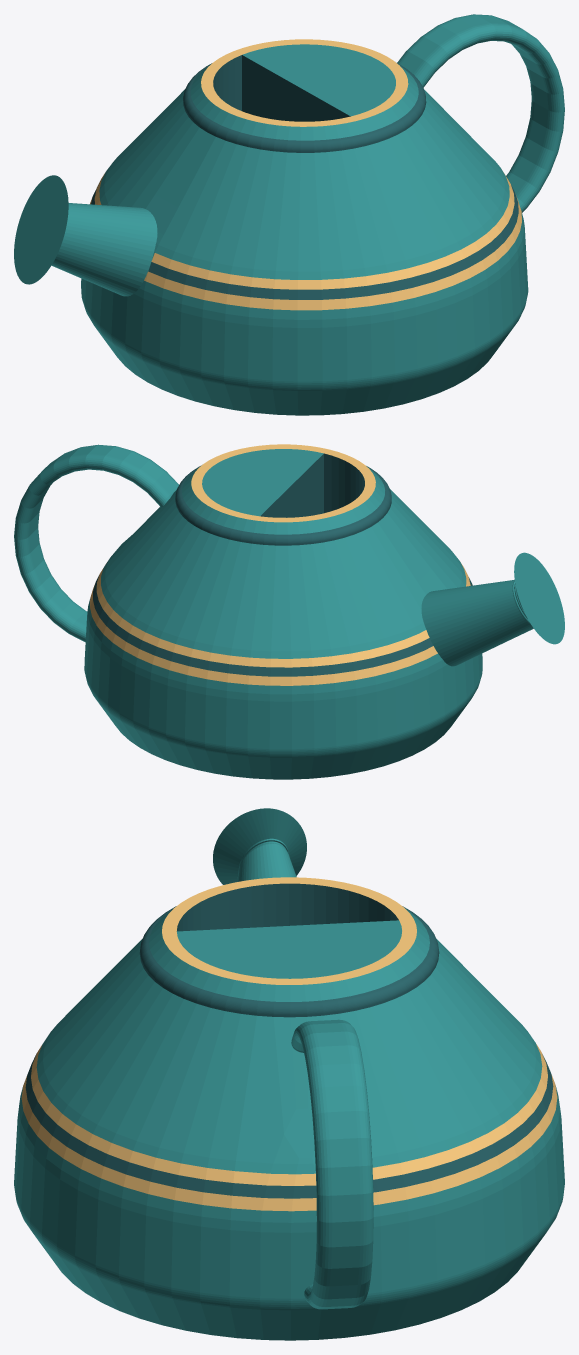
The model's file is regadera.glb.
The picture shows the model from 3 angles, top to bottom: view 1: azimuth 30°, elevation 25°; view 2: azimuth 150°, elevation 25°; view 3: azimuth 270°, elevation 25°; orthographic projection. The views are drawn at different scales.
Parts seen in each view (by area): view 1: Cylinder.001; view 2: Cylinder.001; view 3: Cylinder.001.
Boxes of the visible parts, x1=… form: Cylinder.001: x1=14, y1=14, x2=564, y2=415; Cylinder.001: x1=14, y1=444, x2=564, y2=779; Cylinder.001: x1=14, y1=808, x2=564, y2=1340.
Size of the model in its own units: 3.82 by 1.63 by 2.6.
